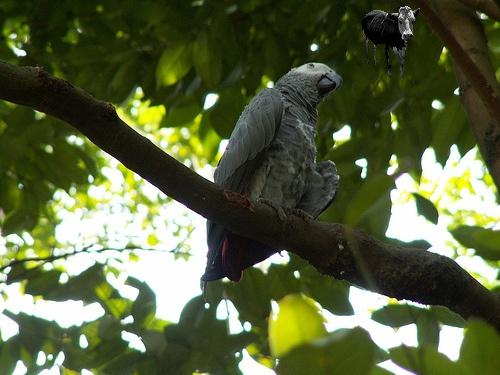tampered: (363, 7, 420, 77)
